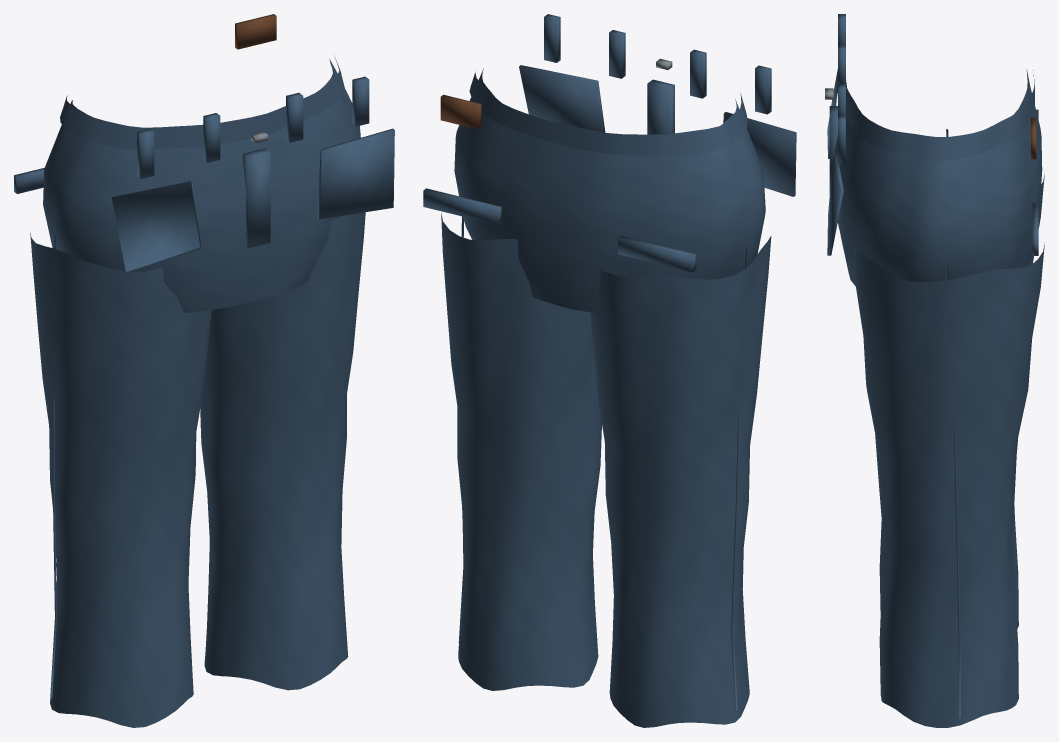
The model's file is PZ_Survivor_05_Jeans_Washed.glb.
3 views of the same model, side by side, from view 1: azimuth 30°, elevation 25°; view 2: azimuth 150°, elevation 25°; view 3: azimuth 270°, elevation 25° (orthographic). The views are drawn at different scales.
Parts seen in each view (by area): view 1: Trouser_Leg_L, Trouser_Leg_R, Waist_And_Seat_Fabric, Hip_Pocket_L, Hip_Pocket_R, Waistband_Double_Stitch, Fly_Zipper_Placket, Back_Maker_Patch, Outer_Seam_L, Belt_Loop_L_-0.07, Belt_Loop_R_0.182, Belt_Loop_L_-0.182 (+1 smaller); view 2: Trouser_Leg_L, Trouser_Leg_R, Waist_And_Seat_Fabric, Waistband_Double_Stitch, Hip_Pocket_R, Hip_Pocket_L, Rear_Pocket_Welt_L, Rear_Pocket_Welt_R, Fly_Zipper_Placket, Back_Maker_Patch, Outer_Seam_L, Belt_Loop_L_-0.07 (+3 smaller); view 3: Trouser_Leg_R, Waist_And_Seat_Fabric, Waistband_Double_Stitch, Hip_Pocket_R, Outer_Seam_R, Trouser_Leg_L, Fly_Zipper_Placket, Belt_Loop_R_0.182, Rear_Pocket_Welt_R.
Part boxes in pixels (x1,y1,x2,y2): Trouser_Leg_L: [30, 232, 211, 727]; Trouser_Leg_R: [200, 212, 365, 690]; Waist_And_Seat_Fabric: [43, 59, 360, 312]; Hip_Pocket_L: [111, 181, 201, 272]; Hip_Pocket_R: [317, 128, 394, 219]; Waistband_Double_Stitch: [60, 56, 344, 149]; Fly_Zipper_Placket: [242, 148, 270, 248]; Back_Maker_Patch: [235, 14, 276, 49]; Outer_Seam_L: [50, 235, 56, 698]; Belt_Loop_L_-0.07: [203, 113, 220, 162]; Belt_Loop_R_0.182: [352, 76, 369, 126]; Belt_Loop_L_-0.182: [137, 129, 154, 178]; Trouser_Leg_L: [590, 236, 771, 727]; Trouser_Leg_R: [441, 213, 601, 690]; Waist_And_Seat_Fabric: [454, 68, 765, 312]; Waistband_Double_Stitch: [469, 72, 747, 156]; Hip_Pocket_R: [519, 65, 605, 132]; Hip_Pocket_L: [723, 112, 796, 196]; Rear_Pocket_Welt_L: [618, 236, 696, 272]; Rear_Pocket_Welt_R: [423, 188, 501, 225]; Fly_Zipper_Placket: [647, 79, 674, 134]; Back_Maker_Patch: [440, 94, 481, 129]; Outer_Seam_L: [731, 247, 746, 710]; Belt_Loop_L_-0.07: [690, 49, 706, 98]; Trouser_Leg_R: [853, 242, 1044, 727]; Waist_And_Seat_Fabric: [834, 69, 1042, 286]; Waistband_Double_Stitch: [838, 70, 1034, 160]; Hip_Pocket_R: [827, 154, 843, 255]; Outer_Seam_R: [946, 265, 960, 718]; Trouser_Leg_L: [879, 172, 1044, 628]; Fly_Zipper_Placket: [829, 106, 837, 193]; Belt_Loop_R_0.182: [838, 115, 845, 164]; Rear_Pocket_Welt_R: [1032, 203, 1038, 255].
Bounding box in the file's own units: 0.524 × 0.9935 × 0.3325.
3 materials, 3 textured.
